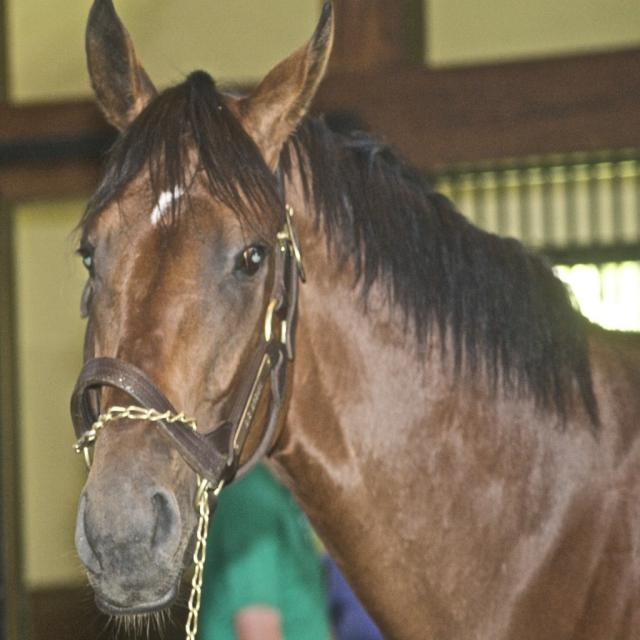Horse: (73, 0, 639, 640)
